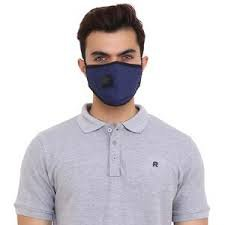mask: (72, 4, 153, 107)
